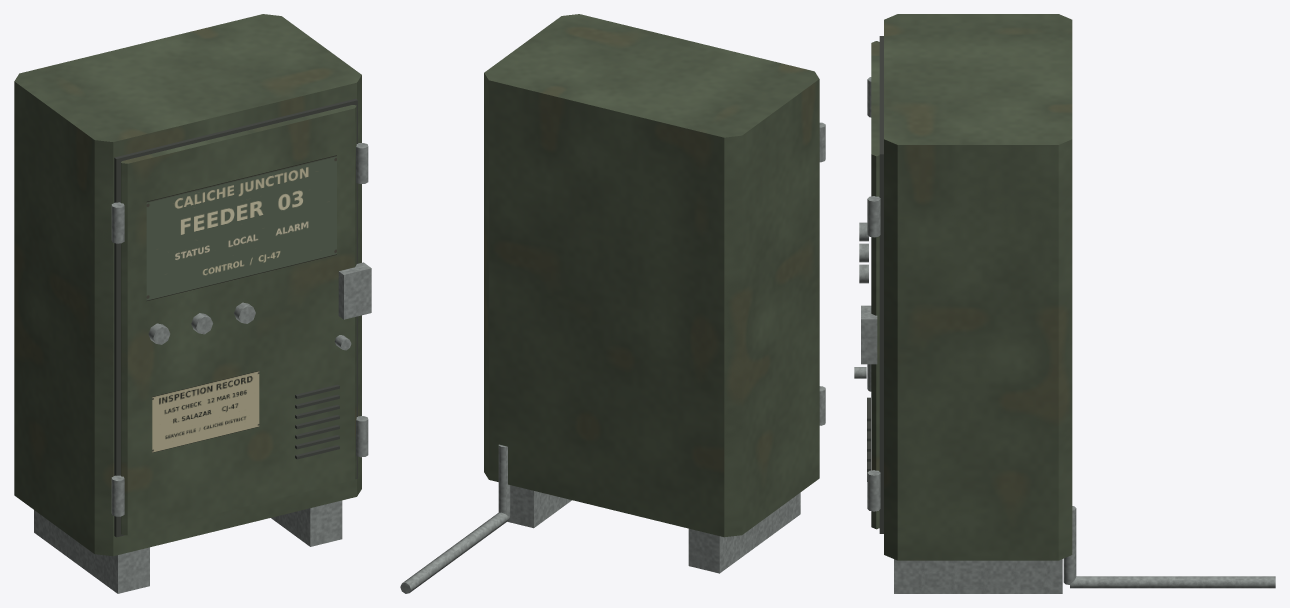
File: SM_Substation_Control_LOD2.fbx
The picture shows the model from 3 angles, left to right: view 1: azimuth 30°, elevation 25°; view 2: azimuth 150°, elevation 25°; view 3: azimuth 270°, elevation 25°; orthographic projection. The views are drawn at different scales.
Parts seen in each view (by area): view 1: SM_Substation_Control_LOD2; view 2: SM_Substation_Control_LOD2; view 3: SM_Substation_Control_LOD2.
Boxes of the visible parts, bbox=[...] form: SM_Substation_Control_LOD2: bbox=[14, 14, 371, 593]; SM_Substation_Control_LOD2: bbox=[400, 14, 825, 593]; SM_Substation_Control_LOD2: bbox=[854, 14, 1275, 593].
Bounding box in the file's own units: 1.25 × 1.7 × 2.05.
